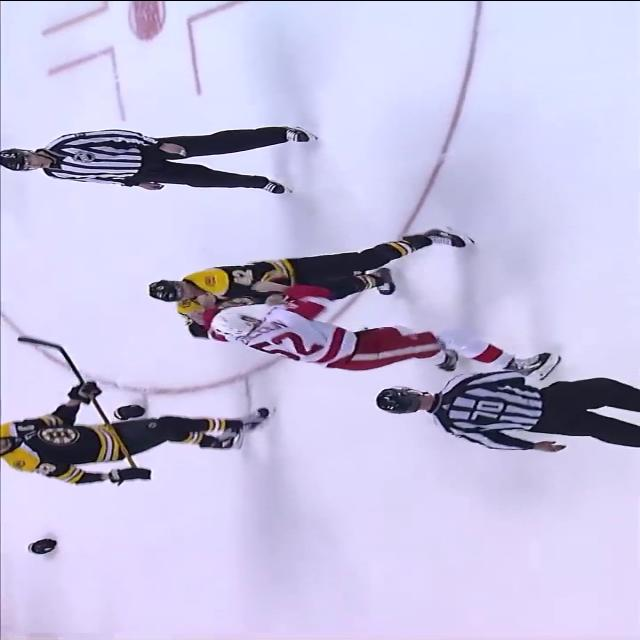NonViolence: (0, 389, 280, 488), (0, 120, 325, 199), (370, 368, 640, 455)
Violence: (146, 228, 483, 374)
